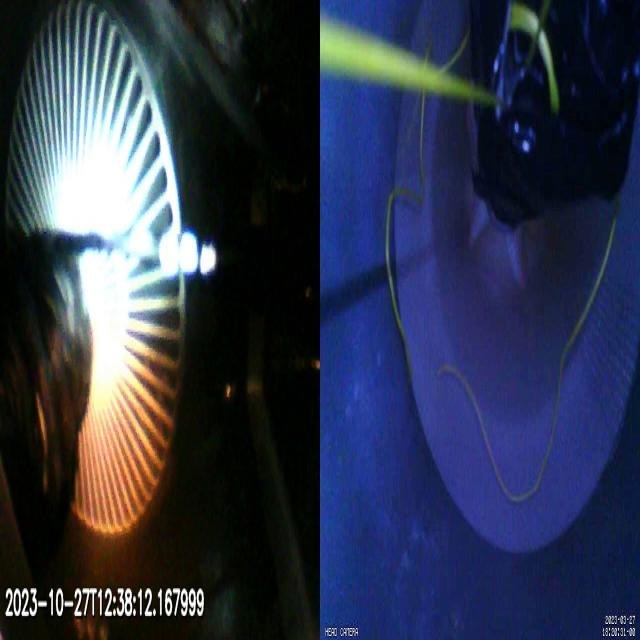white-dots: (160, 230, 216, 279)
